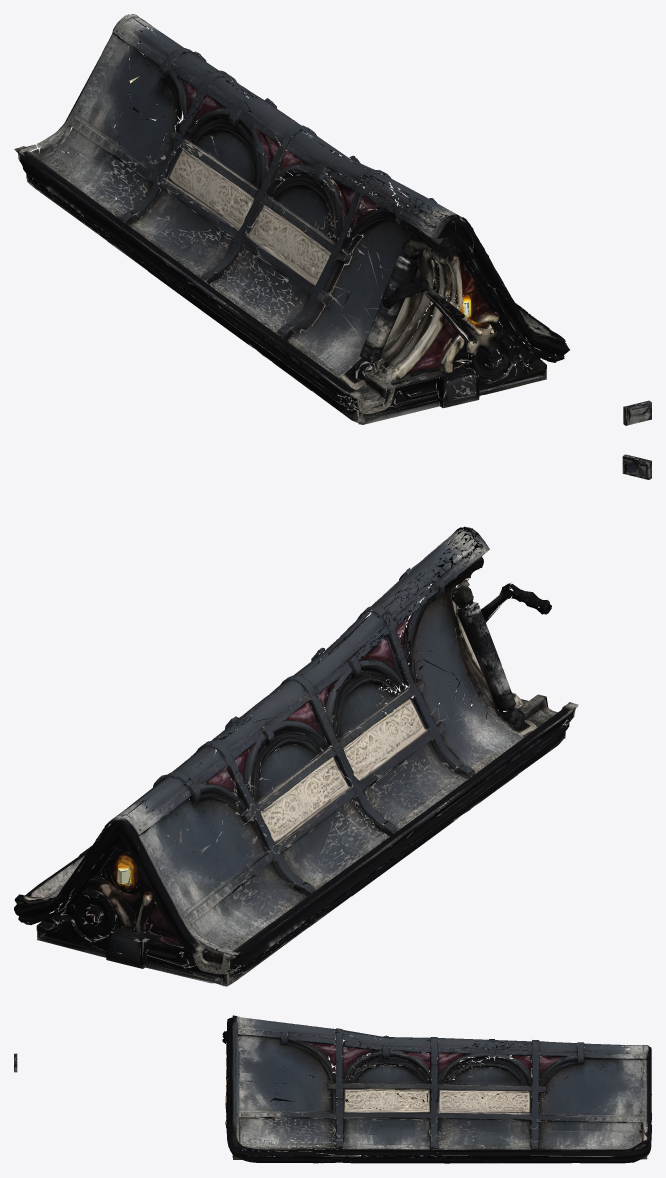
Rendered from traversal_flood_baffle_wedge.glb.
The picture shows the model from 3 angles, top to bottom: view 1: azimuth 30°, elevation 25°; view 2: azimuth 150°, elevation 25°; view 3: azimuth 270°, elevation 25°; orthographic projection. The views are drawn at different scales.
Parts seen in each view (by area): view 1: node_0; view 2: node_0; view 3: node_0.
Boxes of the visible parts, box(x1,y1,x2,y2) form: node_0: box(14, 14, 569, 424); node_0: box(14, 526, 578, 986); node_0: box(222, 1015, 651, 1163).
Size of the model in its own units: 0.4243 by 0.3276 by 1.63.
1 material, 1 textured.
